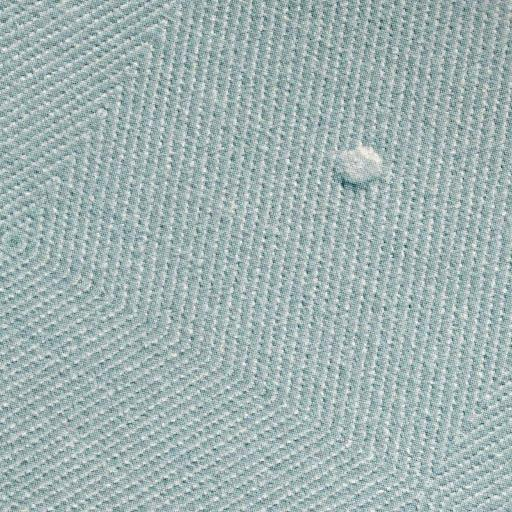knot: (328, 137, 394, 194)
